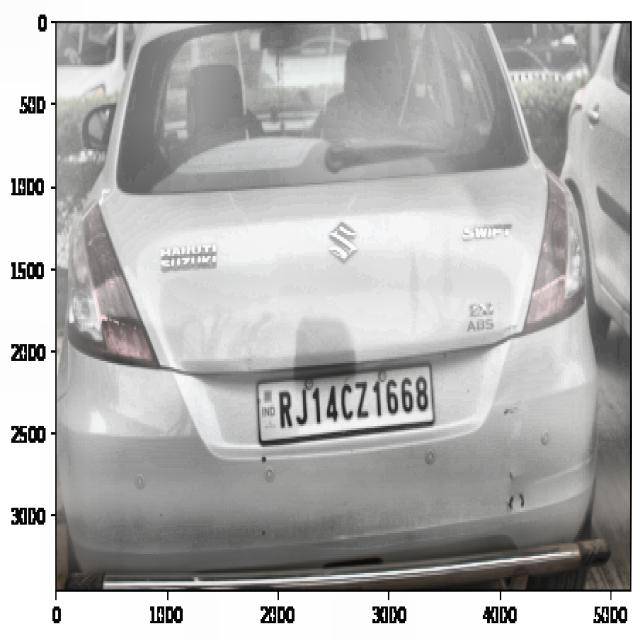license_plate: (267, 368, 434, 434)
